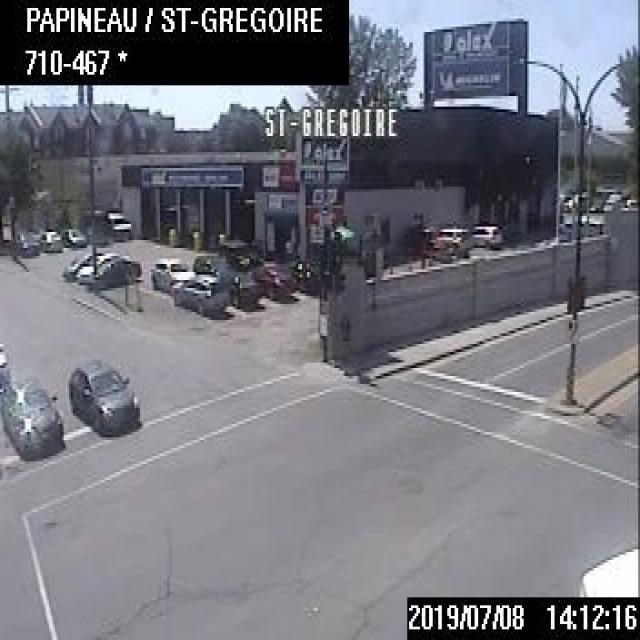vehicle: (67, 352, 142, 432), (0, 366, 62, 454), (575, 544, 638, 595), (172, 269, 228, 319), (214, 264, 262, 310), (78, 252, 140, 286), (253, 258, 296, 301), (148, 258, 194, 294), (426, 224, 470, 258), (464, 222, 505, 248), (218, 237, 248, 266), (191, 252, 227, 274), (101, 211, 130, 237), (12, 228, 38, 257), (35, 226, 61, 254), (60, 227, 86, 250)
